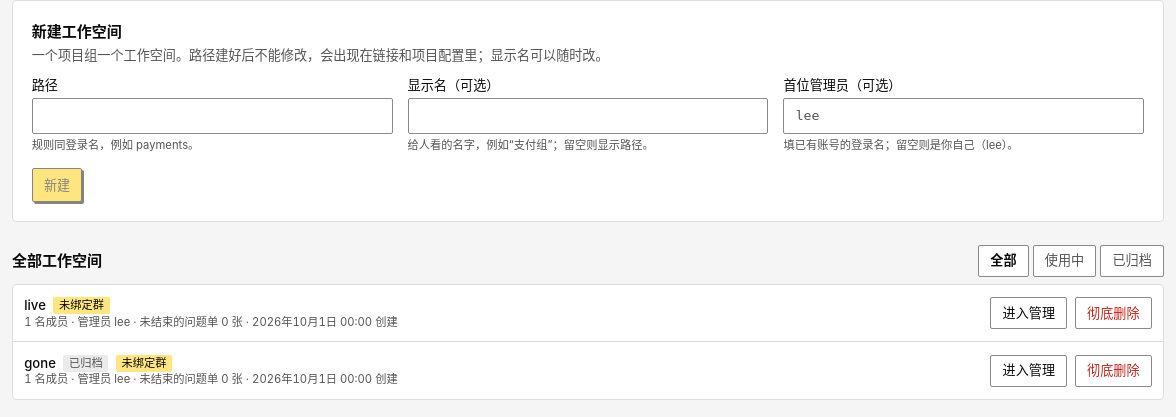
服务器页：按使用中 / 已归档筛选，已归档带标记
This screenshot has width=1176, height=417.
Expected: the text "live" is shown, x1=24 y1=296 x2=46 y2=315
Expected: the text "gone" is shown, x1=24 y1=354 x2=56 y2=372
Click the button "已归档" at coordinates (1132, 261), box x1=1100 y1=245 x2=1164 y2=277
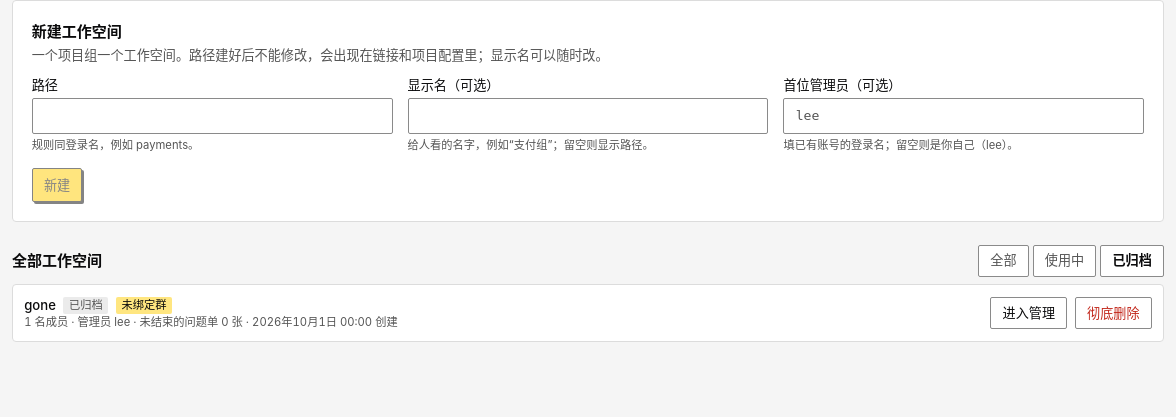
Expected: the text "gone" is shown, x1=24 y1=296 x2=56 y2=315
Expected: the text "live" is gone
Click the button "使用中" at coordinates (1064, 261), box x1=1033 y1=245 x2=1096 y2=277
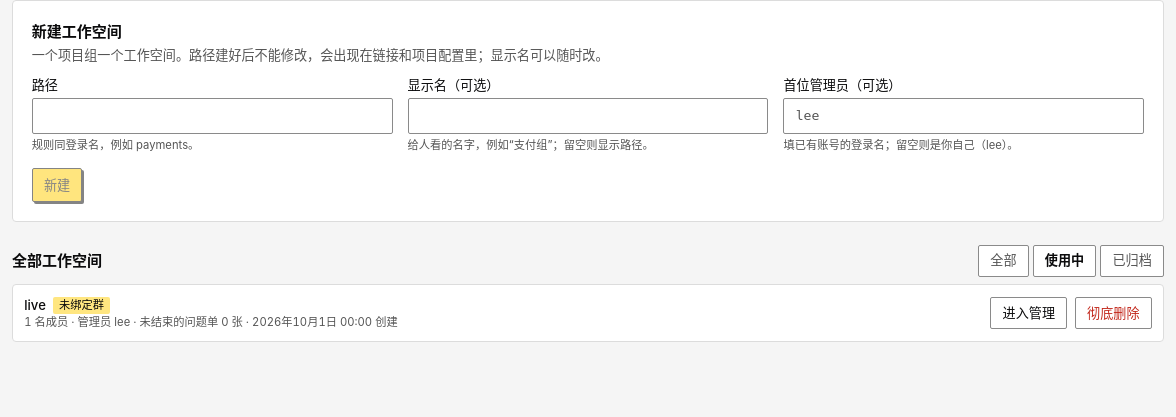
Expected: the text "live" is shown, x1=24 y1=296 x2=46 y2=315
Expected: the text "gone" is gone
